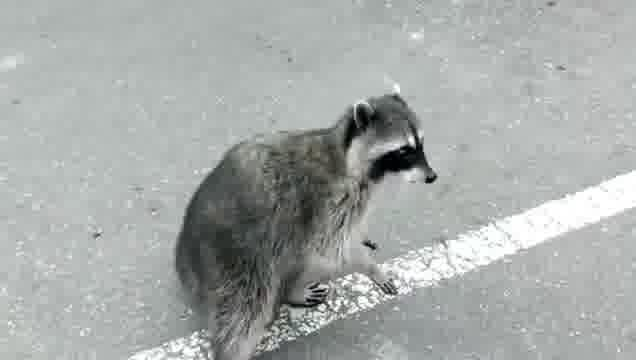raccoon: (173, 80, 440, 360)
